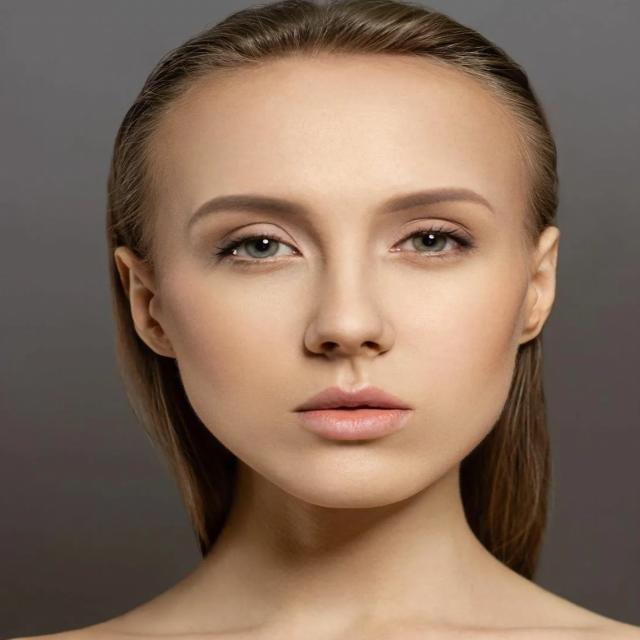earlobe: (114, 246, 175, 360), (518, 227, 560, 345)
